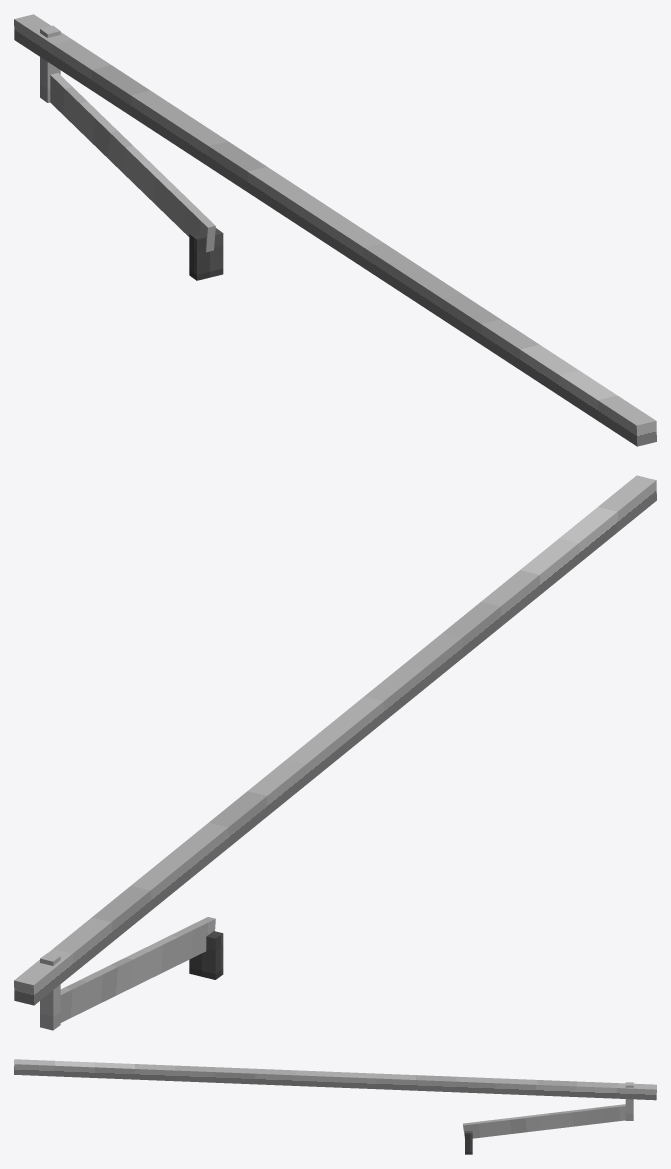
Rendered from contact_wire_holder_outer.obj.
3 views of the same model, one above another, from view 1: azimuth 30°, elevation 25°; view 2: azimuth 150°, elevation 25°; view 3: azimuth 270°, elevation 25° (orthographic). The views are drawn at different scales.
Visible parts, largest first — view 1: p33, p30, p32, p31; view 2: p33, p30, p32, p31; view 3: p33, p30, p31, p32.
Part boxes in pixels (left/top/right/bottom): p33: left=14, top=14, right=656, bottom=446; p30: left=50, top=73, right=215, bottom=252; p32: left=189, top=228, right=223, bottom=280; p31: left=40, top=25, right=60, bottom=102; p33: left=14, top=475, right=656, bottom=1005; p30: left=60, top=917, right=215, bottom=1022; p32: left=189, top=931, right=223, bottom=979; p31: left=40, top=953, right=60, bottom=1030; p33: left=14, top=1059, right=656, bottom=1100; p30: left=463, top=1104, right=625, bottom=1138; p31: left=625, top=1082, right=633, bottom=1120; p32: left=465, top=1131, right=472, bottom=1154.
Bounding box in the file's own units: 0.0625 × 0.3946 × 2.56.
